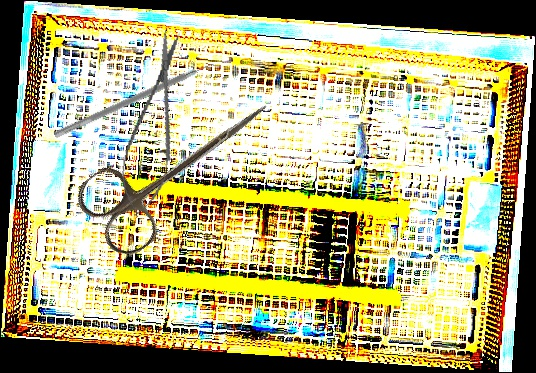Iris Scissors: (69, 66, 291, 265)
Micro Scissor: (112, 27, 196, 221)
Spatula Surgical: (53, 55, 224, 146)
